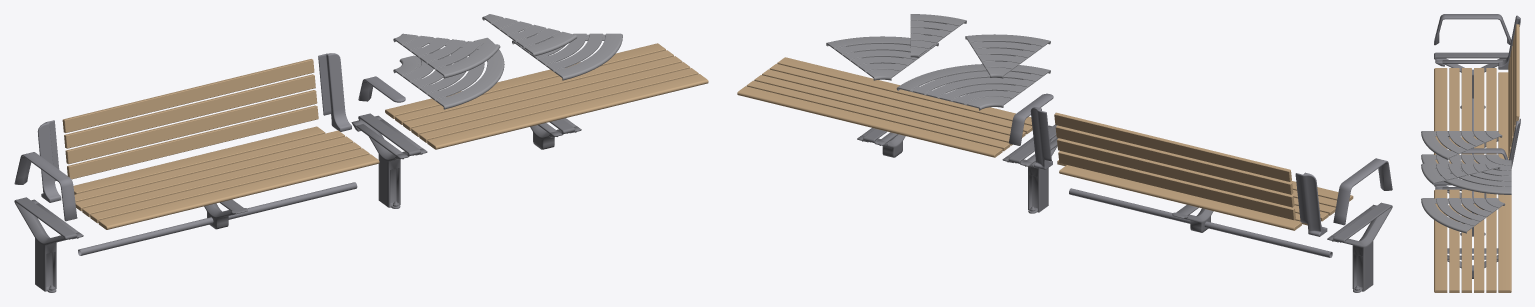
File: prop-bench.glb
3 views of the same model, side by side, from view 1: azimuth 30°, elevation 25°; view 2: azimuth 150°, elevation 25°; view 3: azimuth 270°, elevation 25° (orthographic). The views are drawn at different scales.
Visible parts, largest first — view 1: seat_back, seat, seat_bench, connector_90, legs_double, connector_45, legs_single, connector_60, crossbar, connector_30, back_support_l, arm_rest_01 (+4 smaller); view 2: seat_bench, seat_back, connector_90, seat, connector_60, legs_single, connector_45, crossbar, legs_double, connector_30, arm_rest_01, back_support_r (+4 smaller); view 3: seat_bench, seat, connector_90, connector_60, connector_45, seat_back, connector_30, legs_single, arm_rest_01, arm_rest_02, back_support_r, legs_double (+3 smaller).
Part boxes in pixels (bbox=[...]): seat_back: bbox=[62, 59, 318, 179]; seat: bbox=[73, 126, 379, 229]; seat_bench: bbox=[385, 43, 708, 149]; connector_90: bbox=[393, 37, 504, 109]; legs_double: bbox=[351, 113, 427, 208]; connector_45: bbox=[393, 33, 500, 78]; legs_single: bbox=[14, 197, 83, 292]; connector_60: bbox=[512, 33, 622, 80]; crossbar: bbox=[78, 182, 357, 255]; connector_30: bbox=[482, 14, 577, 56]; back_support_l: bbox=[318, 53, 351, 131]; arm_rest_01: bbox=[14, 152, 77, 221]; seat_bench: bbox=[737, 57, 1032, 157]; seat_back: bbox=[1054, 112, 1295, 220]; connector_90: bbox=[896, 64, 1050, 110]; seat: bbox=[1057, 160, 1353, 230]; connector_60: bbox=[826, 36, 938, 80]; legs_single: bbox=[1327, 202, 1392, 292]; connector_45: bbox=[965, 34, 1050, 78]; crossbar: bbox=[1069, 188, 1332, 257]; legs_double: bbox=[1002, 124, 1058, 213]; connector_30: bbox=[910, 14, 966, 57]; arm_rest_01: bbox=[1333, 158, 1392, 225]; back_support_r: bbox=[1295, 172, 1327, 236]; seat_bench: bbox=[1434, 189, 1511, 292]; seat: bbox=[1434, 68, 1508, 163]; connector_90: bbox=[1421, 154, 1511, 194]; connector_60: bbox=[1421, 198, 1505, 233]; connector_45: bbox=[1421, 131, 1502, 160]; seat_back: bbox=[1508, 24, 1519, 157]; connector_30: bbox=[1421, 163, 1500, 185]; legs_single: bbox=[1434, 52, 1508, 108]; arm_rest_01: bbox=[1434, 14, 1511, 45]; arm_rest_02: bbox=[1461, 148, 1508, 159]; back_support_r: bbox=[1498, 15, 1520, 69]; legs_double: bbox=[1434, 181, 1486, 236].
Size of the model in its own units: 4.34 by 0.95 by 0.7704.
